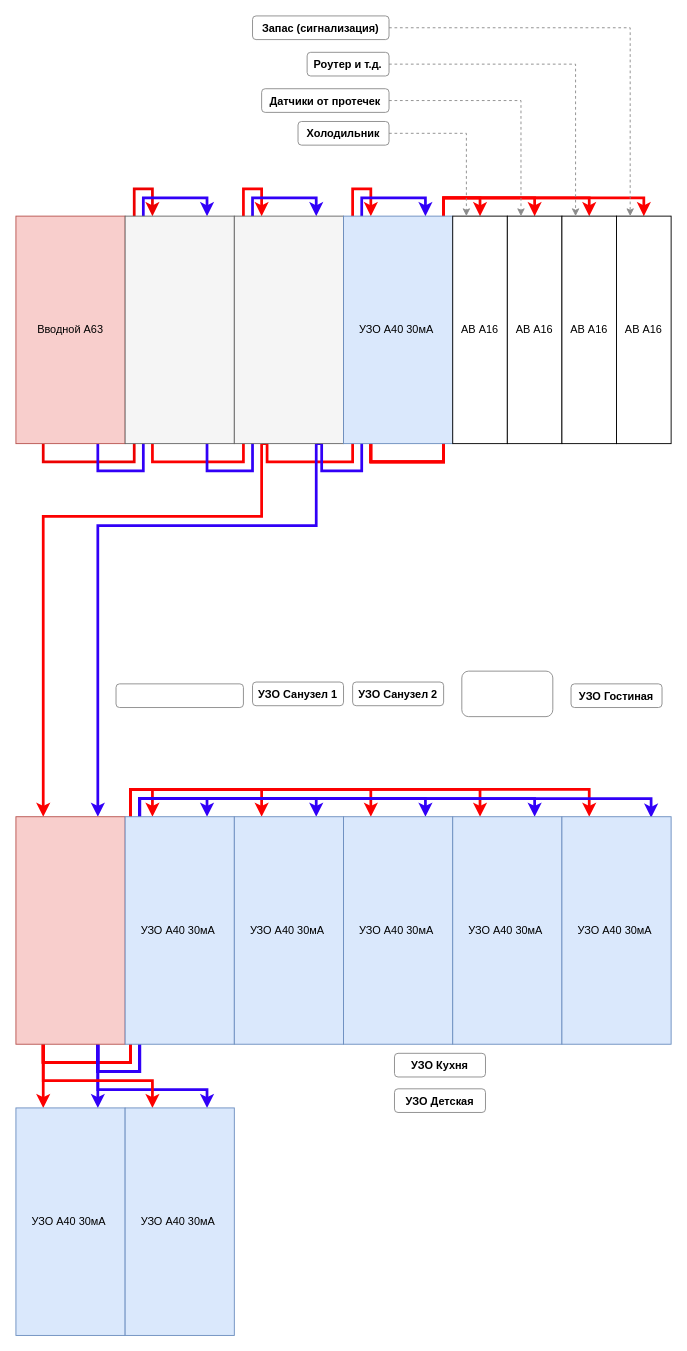
The diagram is 687 pixels wide and 1351 high, and some of its shapes have lost their labels. The box of each missing label's shape, as (x1, y1, x2, y2) in pixels:
Вольтметр: (124, 215, 234, 444)
Рубильник А63: (15, 816, 125, 1044)
УЗИП: (233, 215, 344, 444)
УЗО Кабинет + Спальня + Гардеробная: (461, 670, 553, 717)
УЗО Коридор + шкаф: (115, 683, 243, 708)
